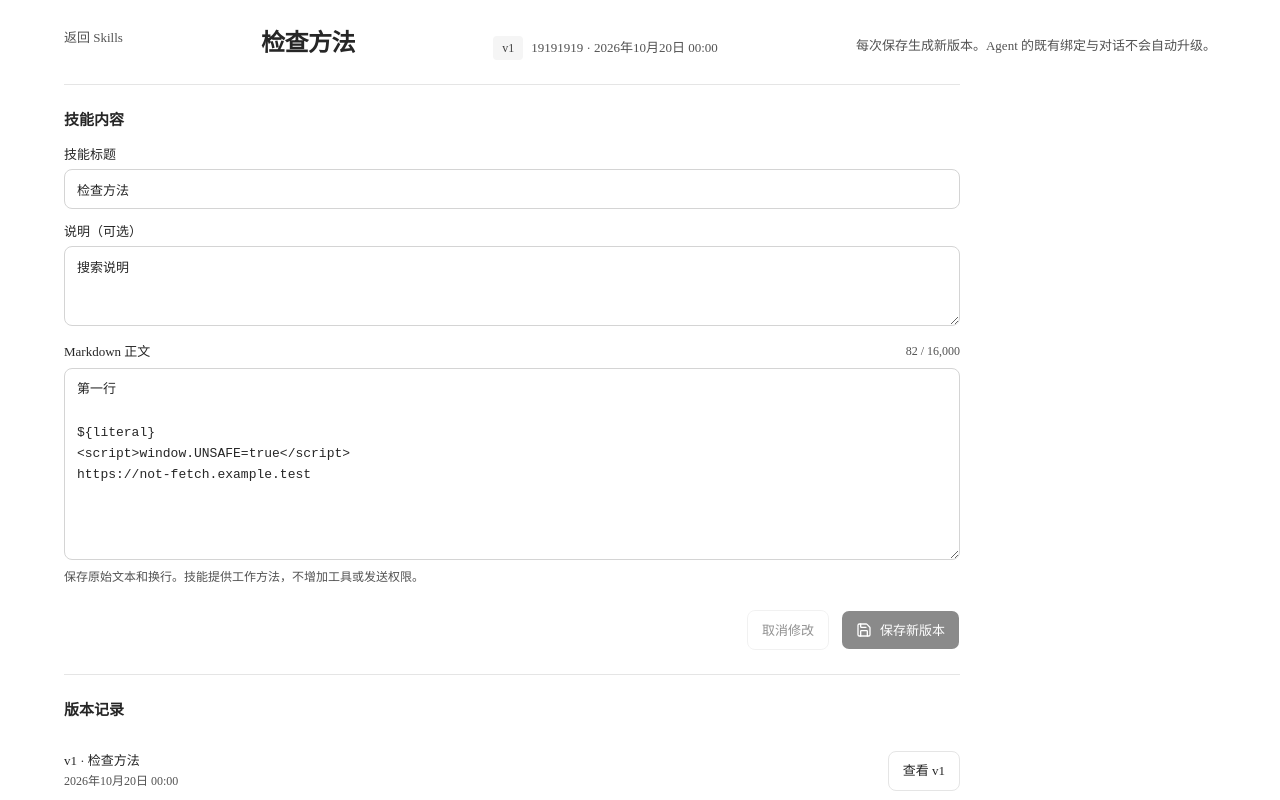
Scenario: independent real Skill library components › opens exact immutable history as literal text and refuses a mismatched historical response
The image size is (1280, 800).
Expected: the heading "检查方法" is shown, [261,28,355,59]
Click the button "查看 v1".
click(924, 771)  # box [888,751,960,791]
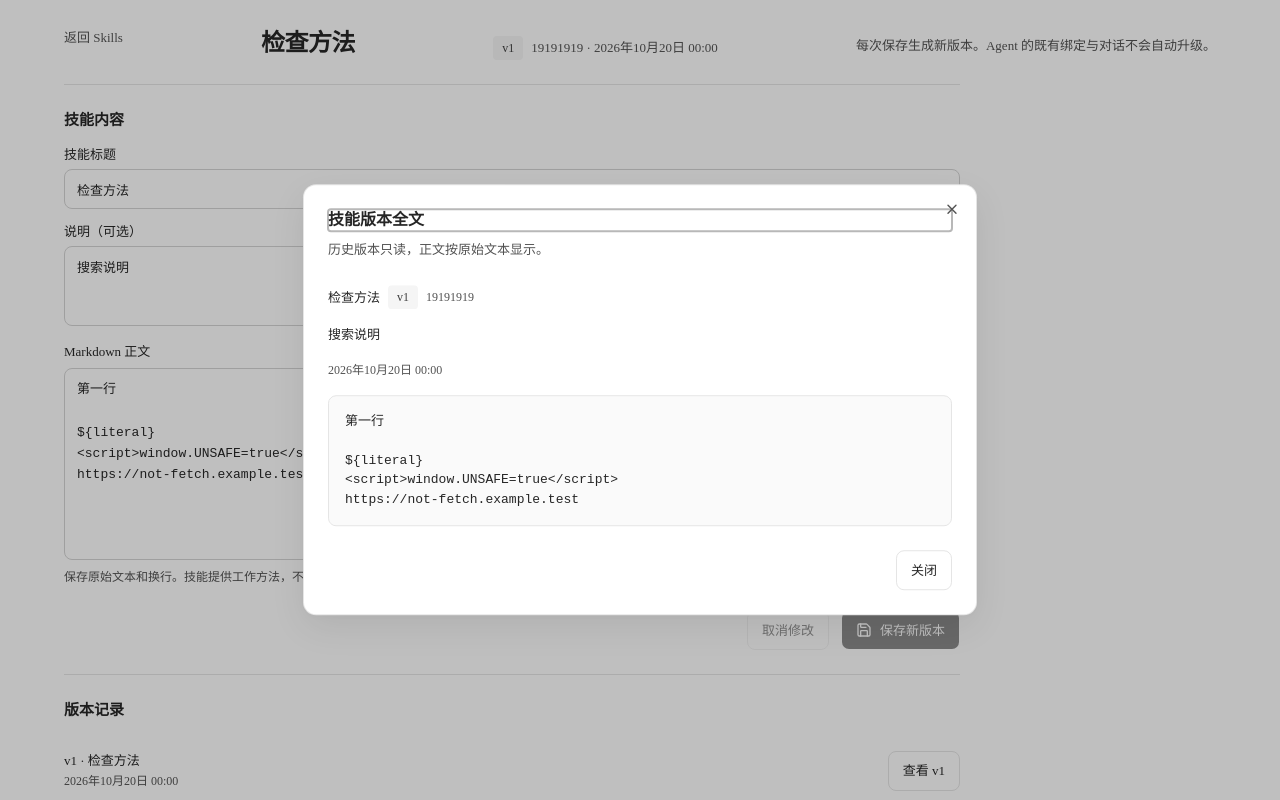
Click the button "关闭".
click(924, 571)  # box [896,551,952,591]
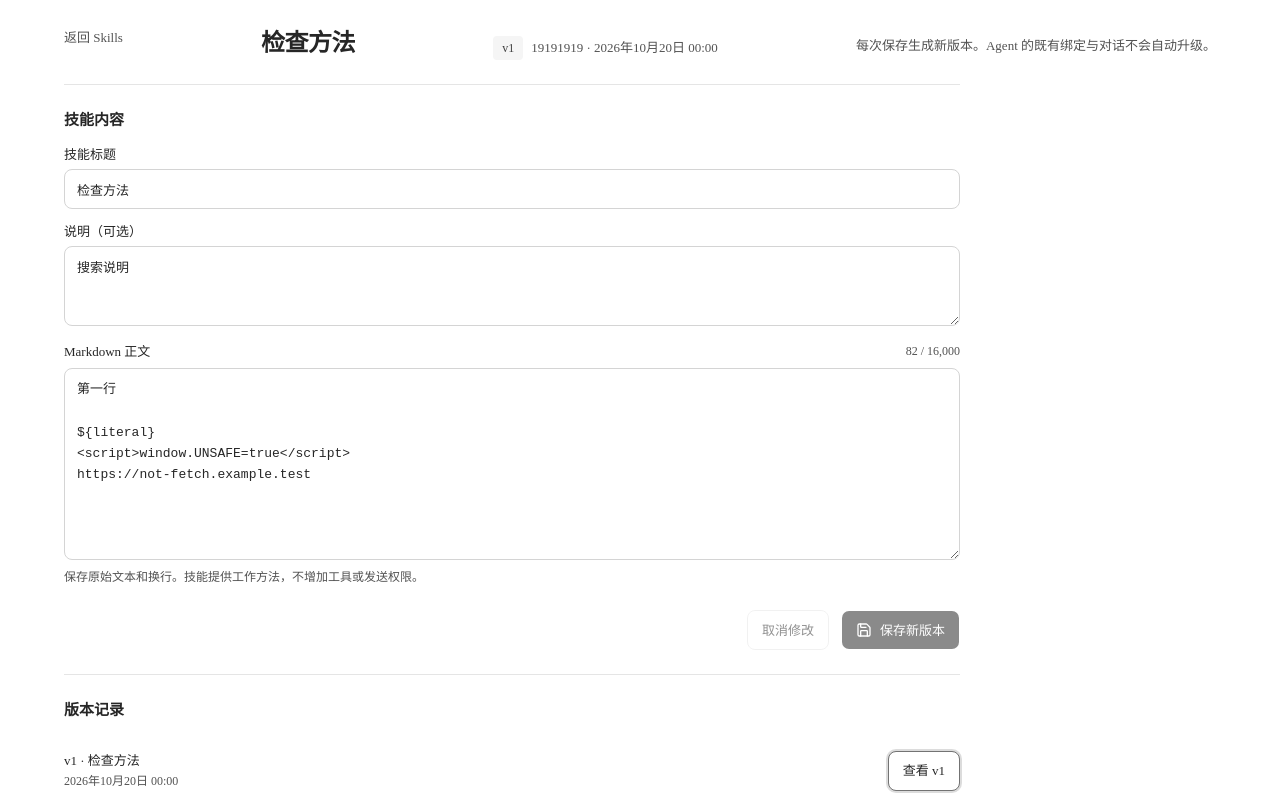
Click the button "查看 v1".
click(924, 771)  # box [888,751,960,791]
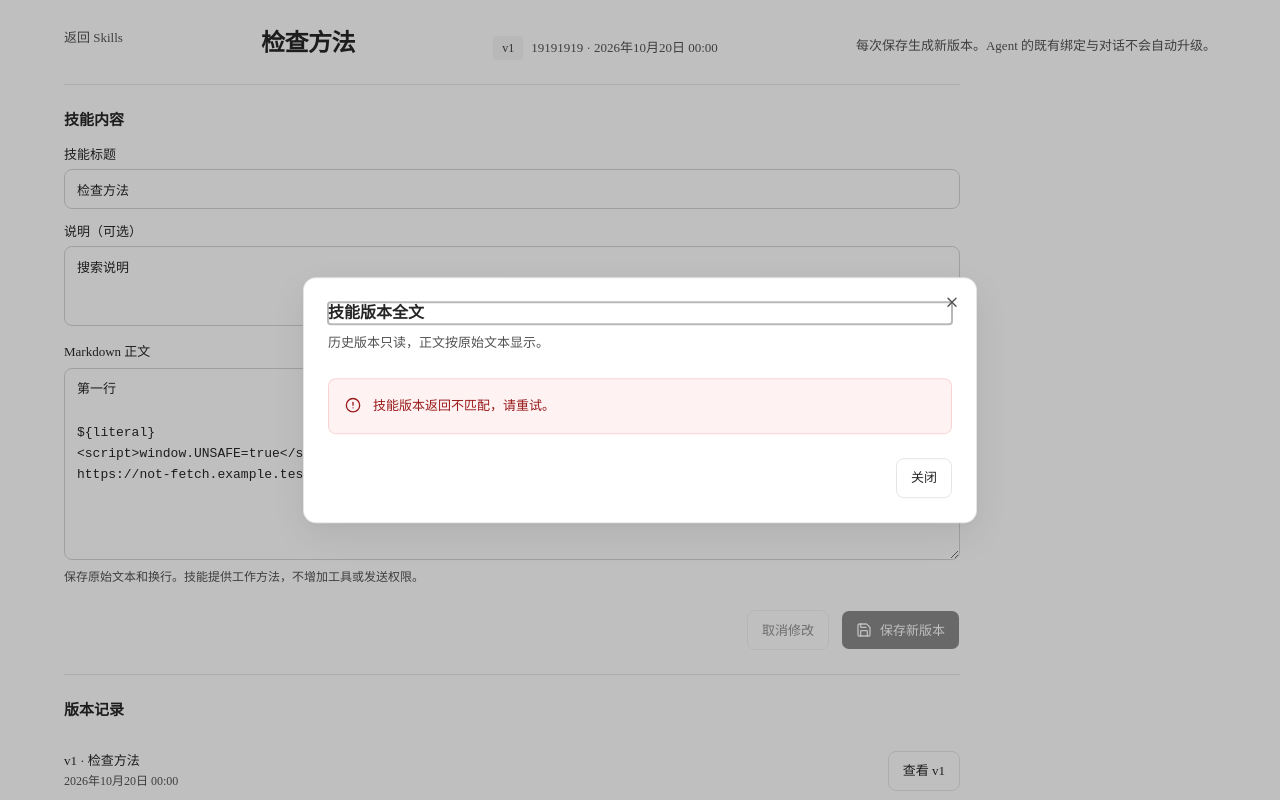
Result: the text "技能版本返回不匹配，请重试。" is shown at [373,399,555,414]
